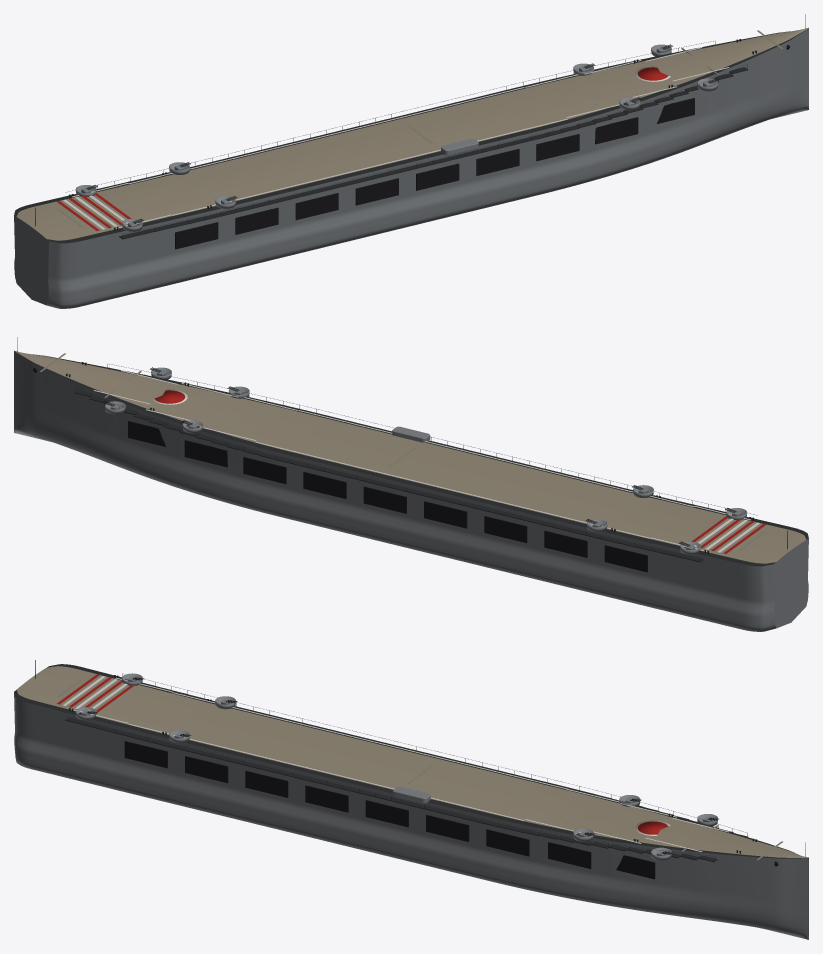
The model's file is zuiho.glb.
The picture shows the model from 3 angles, top to bottom: view 1: azimuth 30°, elevation 25°; view 2: azimuth 150°, elevation 25°; view 3: azimuth 330°, elevation 25°; orthographic projection.
Parts seen in each view (by area): view 1: zuiho; view 2: zuiho; view 3: zuiho.
Part boxes in pixels (box(x1,y1,x2,y2)): zuiho: box(14, 14, 808, 308); zuiho: box(14, 337, 808, 631); zuiho: box(14, 660, 808, 939).
Size of the model in its own units: 206 by 24.43 by 26.4.
